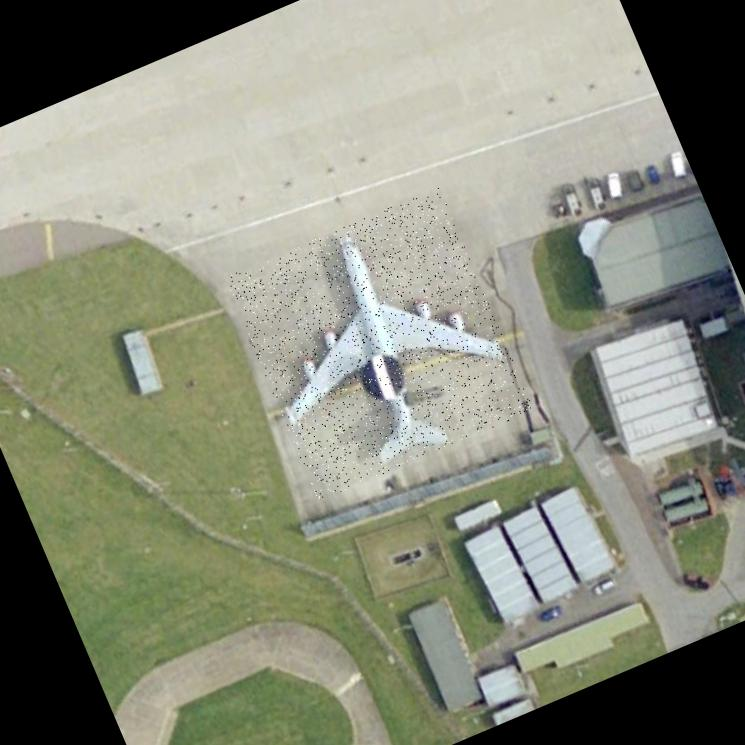A7: (223, 186, 533, 500)
